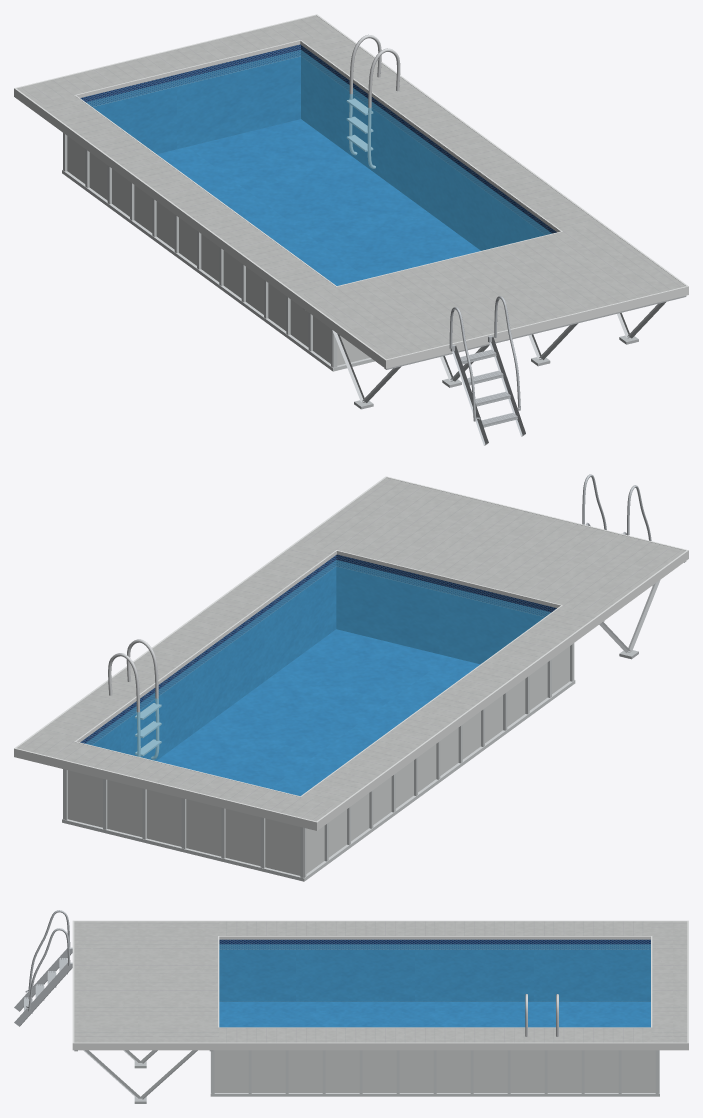
File: kayak-pool-12x24-white-end-ag-nofence.5e69f3d0bb.glb
The picture shows the model from 3 angles, top to bottom: view 1: azimuth 30°, elevation 25°; view 2: azimuth 150°, elevation 25°; view 3: azimuth 270°, elevation 25°; orthographic projection. The views are drawn at different scales.
Parts seen in each view (by area): view 1: water, deck, liner_wall, liner_floor, fascia, wall, upright, ladder, stud, steel; view 2: water, deck, liner_wall, liner_floor, wall, fascia, upright, steel, stud, ladder; view 3: water, deck, liner_wall, wall, liner_floor, fascia, upright, ladder, stud.
Boxes of the visible parts, left/top/right/bottom form: water: left=86, top=50, right=551, bottom=285; deck: left=17, top=15, right=685, bottom=359; liner_wall: left=80, top=44, right=556, bottom=250; liner_floor: left=157, top=119, right=480, bottom=285; fascia: left=14, top=14, right=688, bottom=368; wall: left=67, top=136, right=369, bottom=365; upright: left=62, top=133, right=374, bottom=371; ladder: left=449, top=296, right=525, bottom=445; stud: left=303, top=296, right=686, bottom=409; steel: left=346, top=34, right=400, bottom=168; water: left=85, top=560, right=550, bottom=795; deck: left=17, top=477, right=685, bottom=821; liner_wall: left=80, top=554, right=556, bottom=760; liner_floor: left=157, top=629, right=479, bottom=795; wall: left=68, top=646, right=569, bottom=875; fascia: left=14, top=476, right=688, bottom=830; upright: left=62, top=643, right=575, bottom=881; steel: left=108, top=639, right=161, bottom=759; stud: left=599, top=561, right=686, bottom=659; ladder: left=582, top=474, right=652, bottom=585; water: left=219, top=944, right=650, bottom=1027; deck: left=74, top=921, right=687, bottom=1042; liner_wall: left=219, top=939, right=650, bottom=1001; wall: left=214, top=1050, right=655, bottom=1092; liner_floor: left=219, top=1002, right=650, bottom=1027; fascia: left=72, top=920, right=688, bottom=1050; upright: left=210, top=1050, right=659, bottom=1096; ladder: left=14, top=910, right=72, bottom=1026; stud: left=74, top=1050, right=213, bottom=1103.
Bounding box in the file's own units: 4.88 × 1.9 × 11.35.
10 materials, 3 textured.
